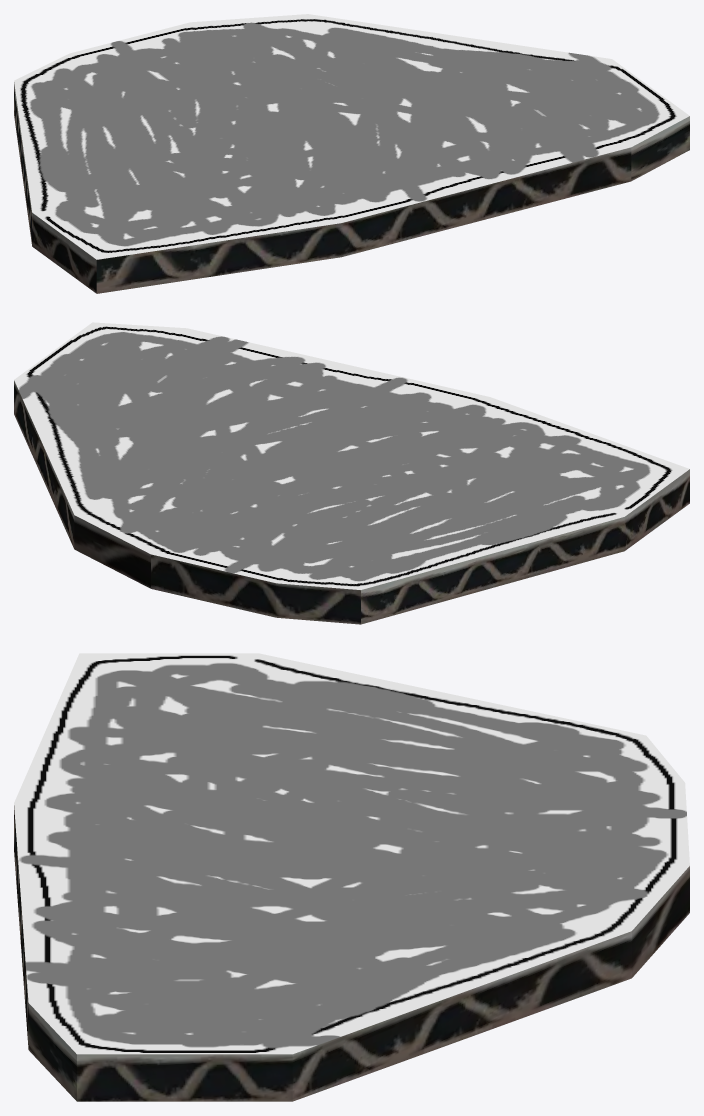
The model's file is rock.fbx.
The picture shows the model from 3 angles, top to bottom: view 1: azimuth 30°, elevation 25°; view 2: azimuth 150°, elevation 25°; view 3: azimuth 270°, elevation 25°; orthographic projection. The views are drawn at different scales.
Parts seen in each view (by area): view 1: Plane; view 2: Plane; view 3: Plane.
Boxes of the visible parts, bbox=[...] form: Plane: bbox=[14, 14, 689, 293]; Plane: bbox=[14, 322, 689, 624]; Plane: bbox=[14, 653, 689, 1101].
Size of the model in its own units: 600 by 33 by 427.
